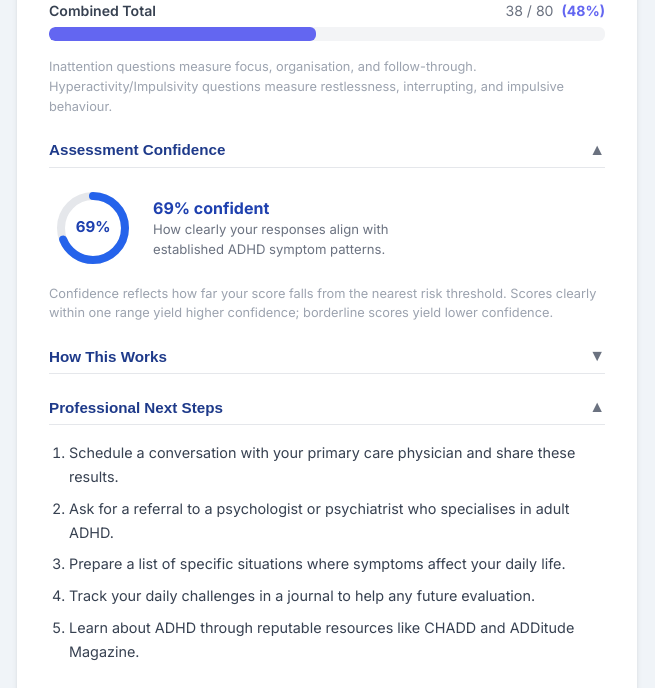
Test: ResultsPage › collapsible sections toggle on click
This screenshot has width=655, height=688.
(page scrolled)
Click the button "How This Works ▼". click: (108, 356)
box: 49,347 -> 605,374
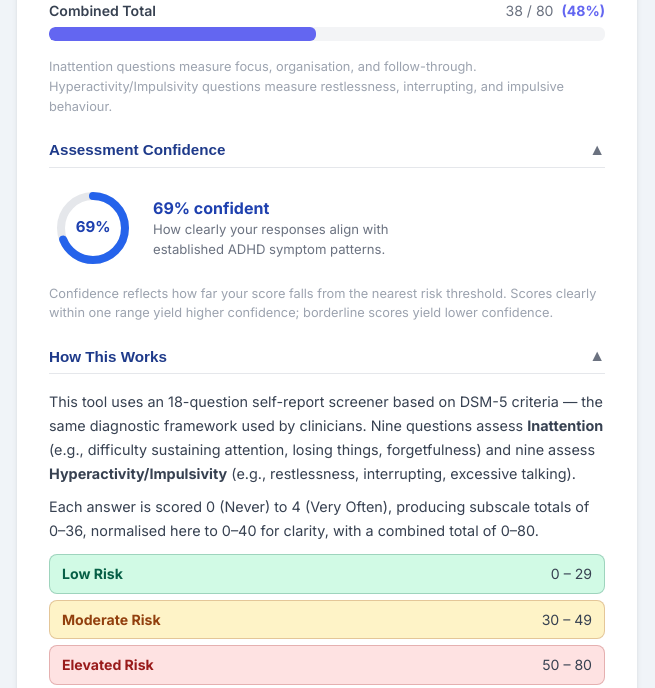
expect the button "How This Works ▲" is expanded: met, box 49,347 -> 605,374
